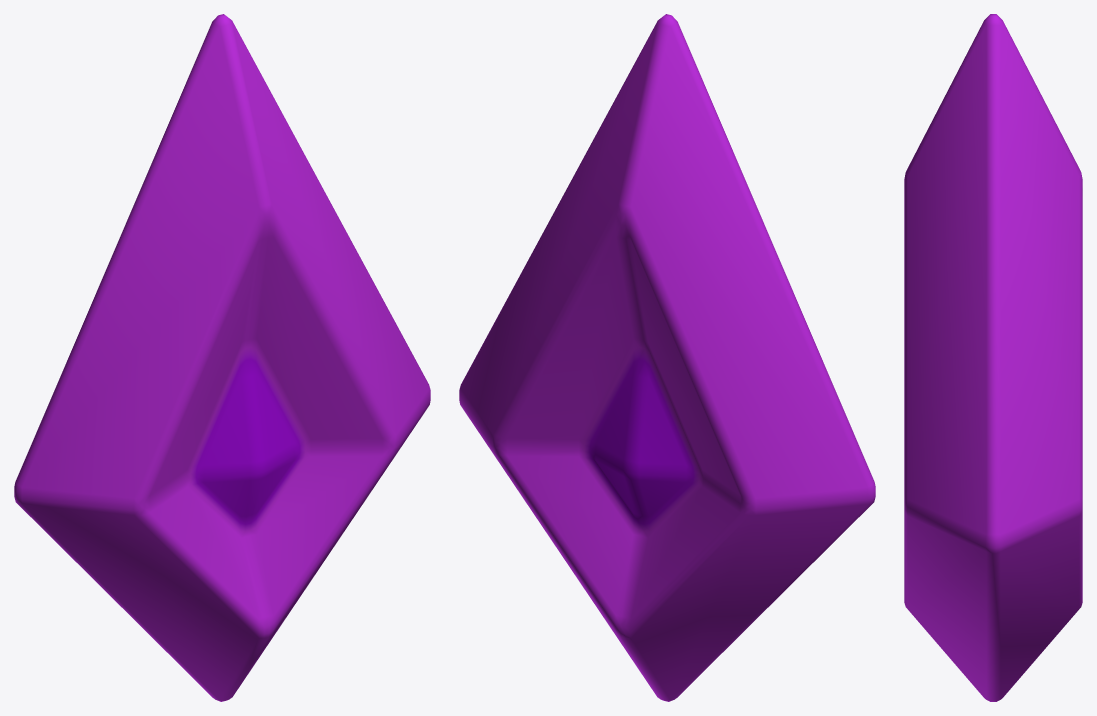
File: Fuel.fbx
3 renders of one model, left to right at view 1: azimuth 30°, elevation 25°; view 2: azimuth 150°, elevation 25°; view 3: azimuth 270°, elevation 25°, orthographic.
Parts seen in each view (by area): view 1: Plane; view 2: Plane; view 3: Plane.
Part boxes in pixels (x1=…): Plane: x1=14, y1=14, x2=430, y2=701; Plane: x1=459, y1=14, x2=875, y2=701; Plane: x1=904, y1=14, x2=1082, y2=701.
Size of the model in its own units: 24.14 by 38.14 by 9.
